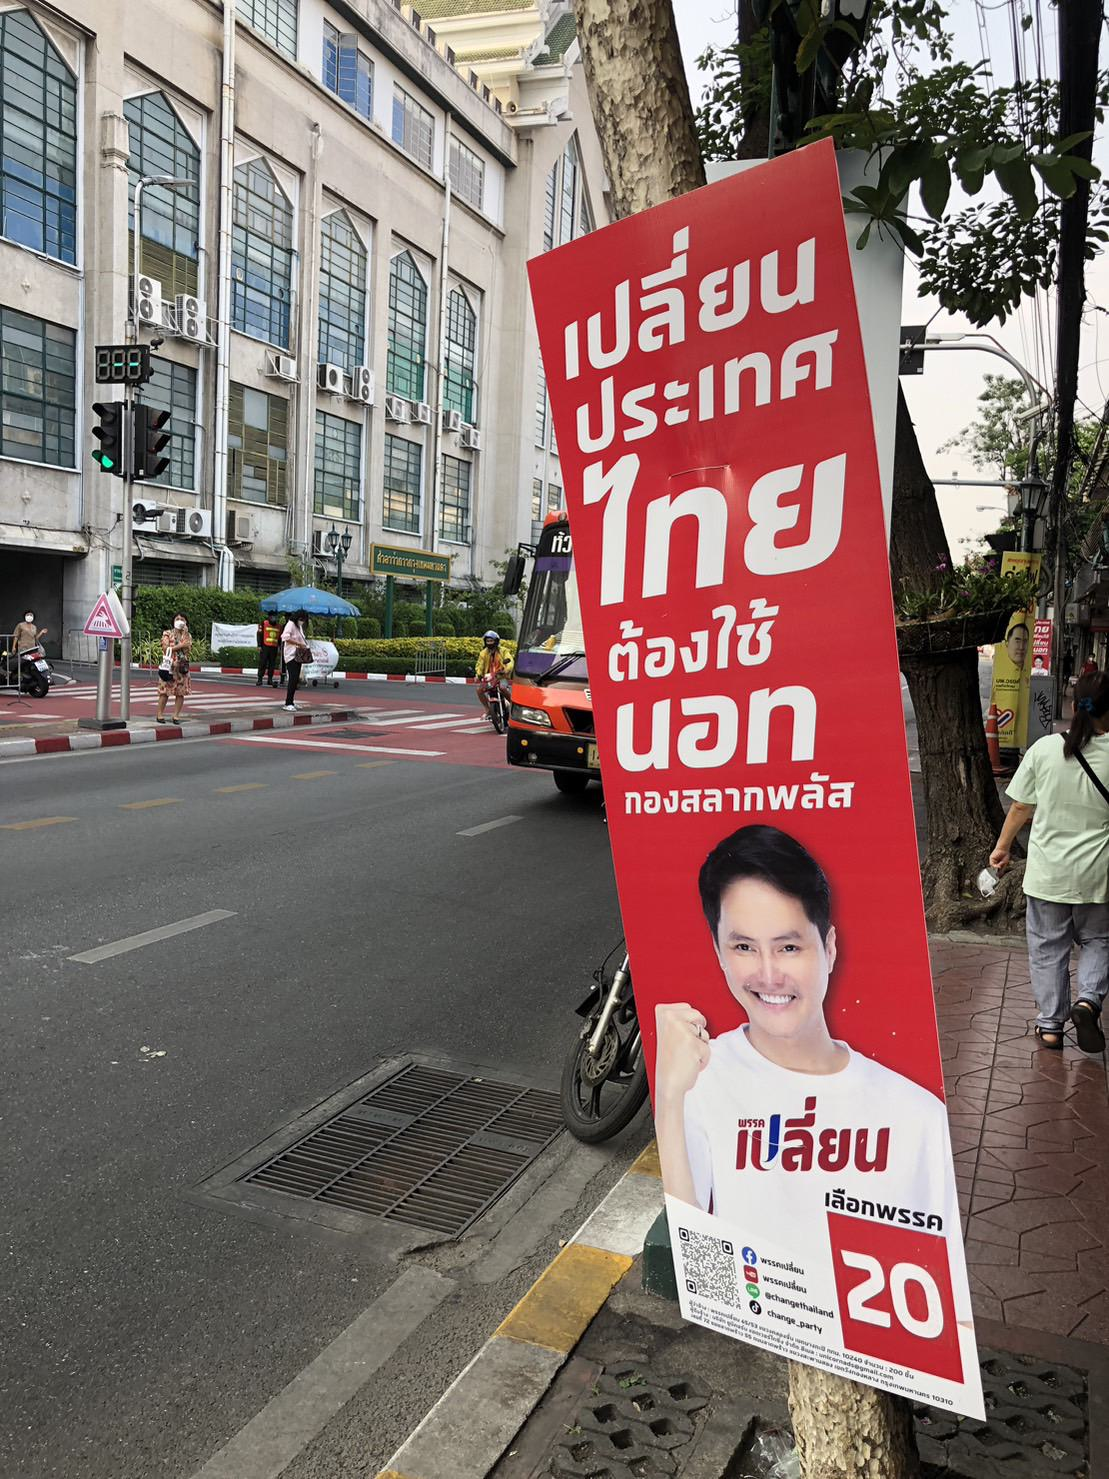Banner: (516, 141, 993, 1424)
